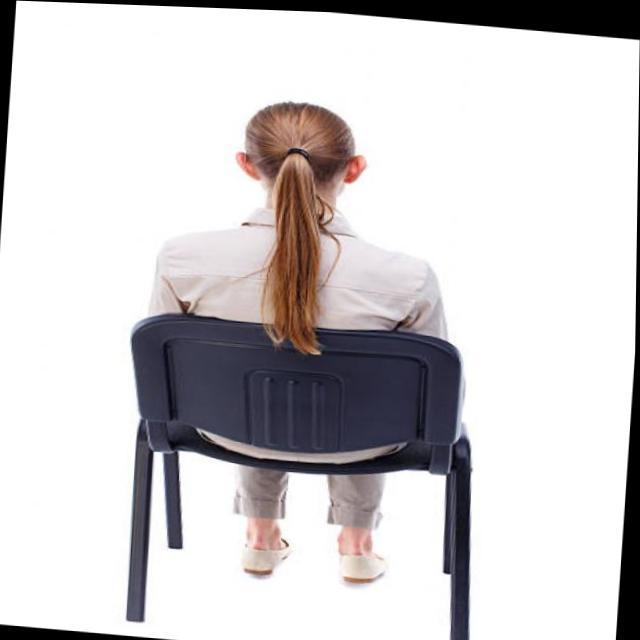no helmet: (229, 94, 373, 201)
